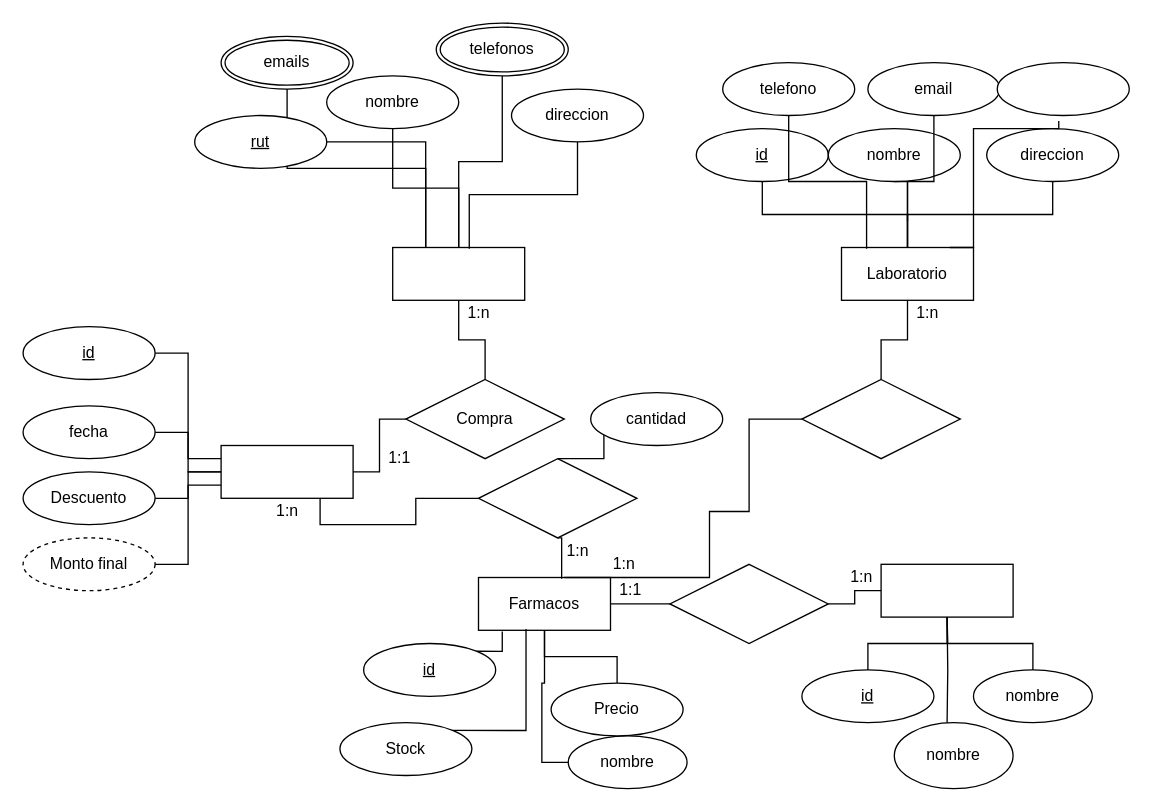
Some shapes in this 1152 by 812 pixel diagram are drawn without their labels. Here are the shapes that lost their labels. From the top down, the box of each, then its label:
(996, 61, 1129, 116): pagina web
(391, 246, 525, 300): Cliente
(801, 378, 960, 459): Provee
(220, 444, 353, 498): Venta
(477, 457, 637, 538): Detalla
(669, 563, 828, 644): Se califican
(880, 563, 1013, 617): Categoria
